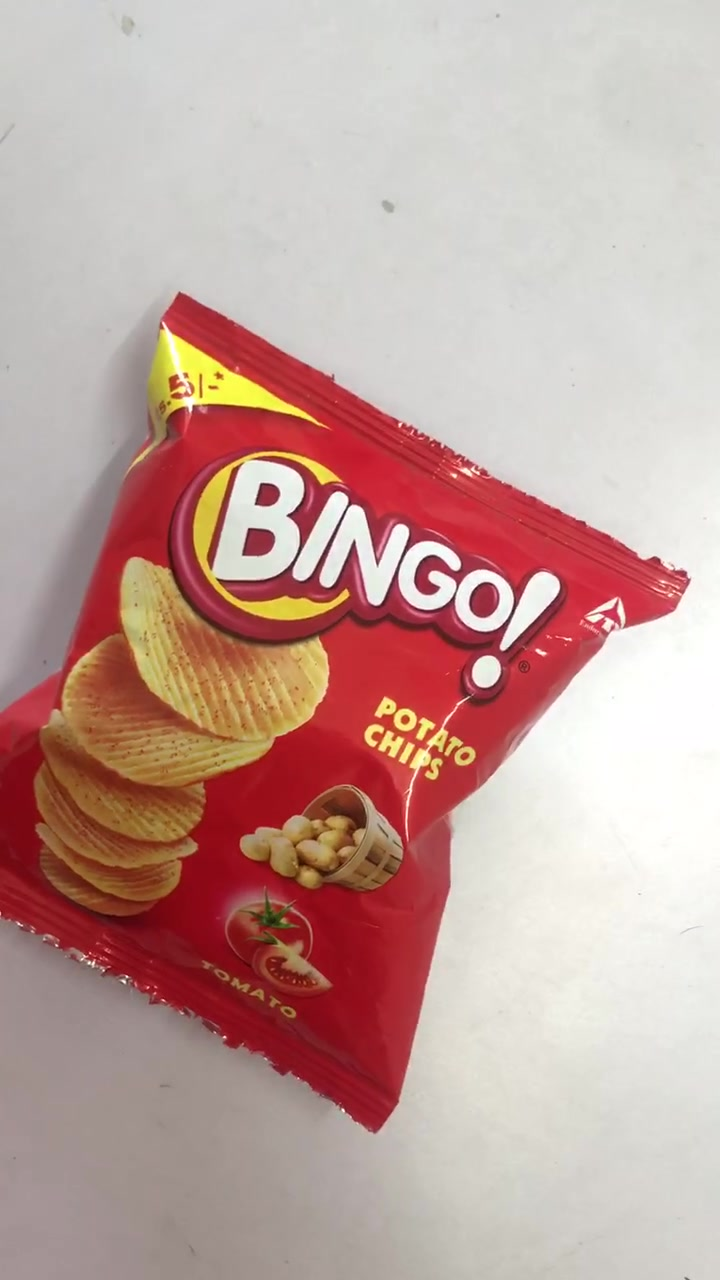Bingo: (9, 295, 689, 1120)
